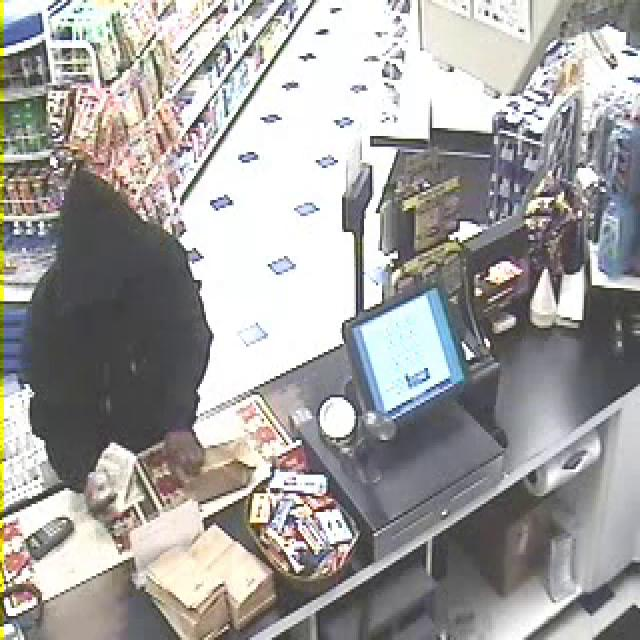robbery: (26, 183, 207, 560)
